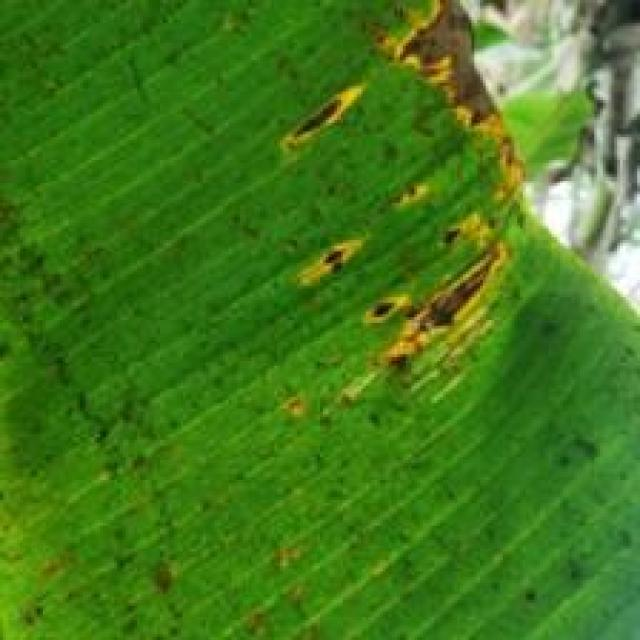Downey_mildrew: (258, 3, 640, 503), (0, 178, 277, 627)
